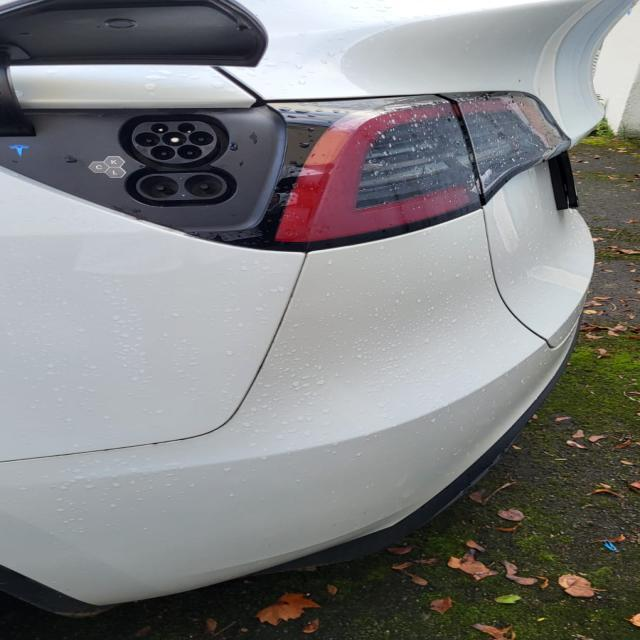inlet: (132, 121, 217, 164)
inlet-above-left: (151, 123, 169, 133)
inlet-above-right: (177, 123, 195, 133)
inlet-below-left: (150, 145, 175, 160)
inlet-below-right: (177, 145, 202, 159)
inlet-center: (162, 132, 187, 146)
inlet-center-left: (135, 132, 160, 147)
inlet-center-right: (189, 131, 213, 145)
